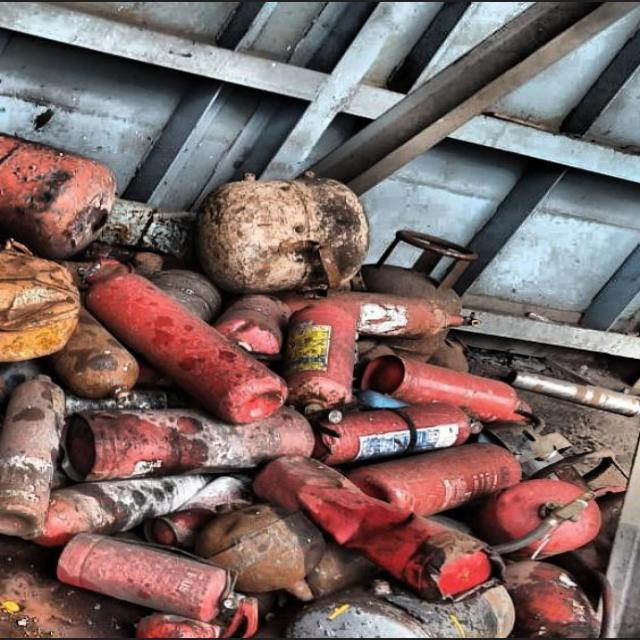cylinder: (78, 263, 289, 424), (197, 171, 369, 292)
